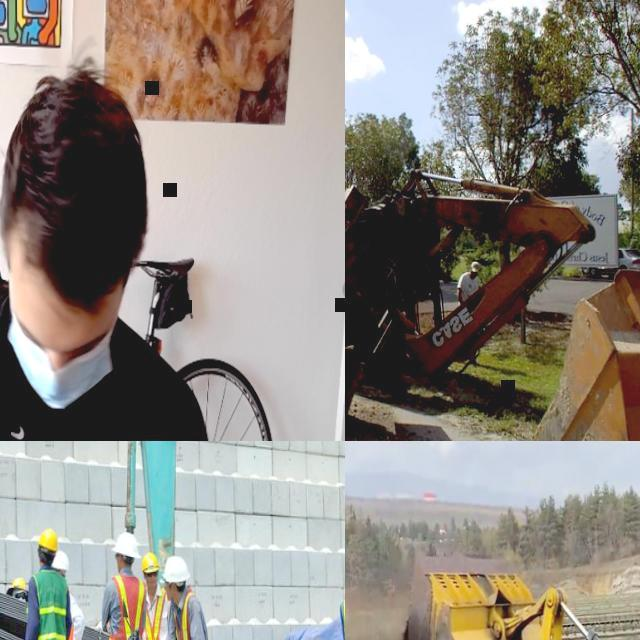helmet: (162, 556, 188, 582), (113, 532, 139, 558), (140, 552, 158, 574), (38, 529, 56, 550), (51, 552, 67, 572), (6, 577, 26, 593)
machinery: (345, 178, 594, 423), (120, 441, 345, 640), (483, 269, 640, 441), (392, 546, 640, 640)
mask: (5, 317, 116, 410)
no_helmet: (0, 61, 153, 300), (471, 260, 479, 272)
no_mask: (164, 589, 177, 601), (147, 578, 158, 590), (114, 564, 122, 572), (468, 276, 475, 280)
no_vest: (0, 310, 176, 441), (461, 274, 477, 298)
person: (0, 59, 220, 441), (18, 527, 71, 640), (99, 529, 146, 640), (160, 555, 215, 640), (46, 552, 86, 640), (140, 550, 171, 640), (456, 260, 482, 366), (1, 574, 31, 640)
vehicle: (601, 248, 640, 277)
vest: (104, 573, 145, 640), (31, 568, 67, 640), (171, 587, 214, 640), (140, 583, 169, 640), (2, 598, 27, 640), (61, 622, 80, 640)
